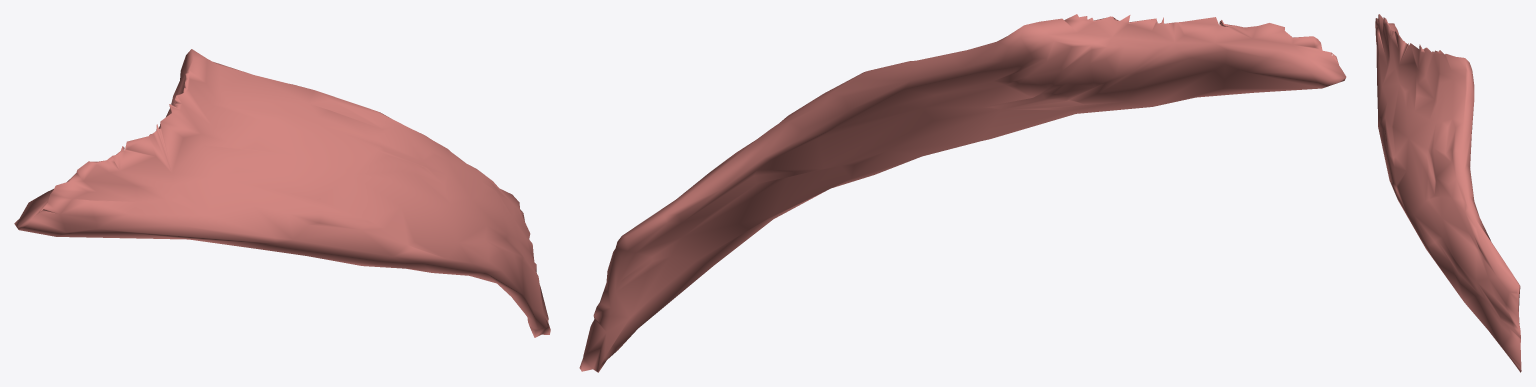
The picture shows the model from 3 angles, left to right: view 1: azimuth 30°, elevation 25°; view 2: azimuth 150°, elevation 25°; view 3: azimuth 270°, elevation 25°; orthographic projection. The views are drawn at different scales.
Visible parts, largest first — view 1: ZA_3c0a9b09661fd76b; view 2: ZA_3c0a9b09661fd76b; view 3: ZA_3c0a9b09661fd76b.
Part boxes in pixels (left/top/right/bottom): ZA_3c0a9b09661fd76b: left=14, top=49, right=550, bottom=337; ZA_3c0a9b09661fd76b: left=579, top=14, right=1346, bottom=372; ZA_3c0a9b09661fd76b: left=1375, top=14, right=1521, bottom=372.
Bounding box in the file's own units: 0.1734 × 0.1056 × 0.0652.
